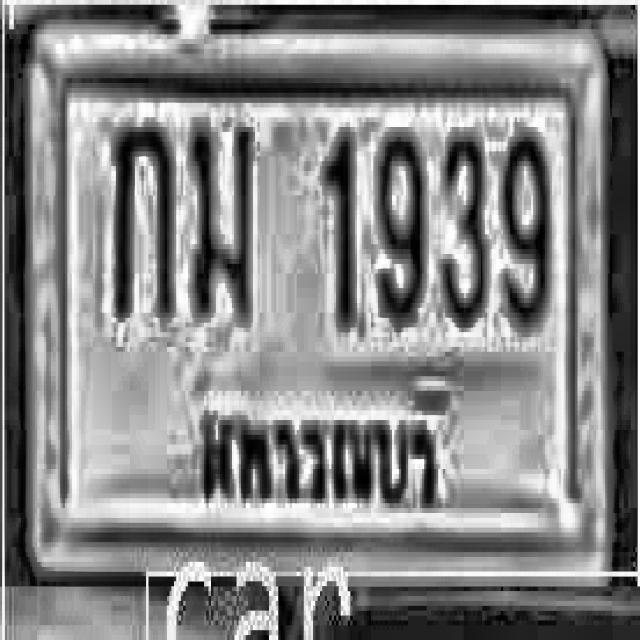license-plate: (24, 24, 619, 602)
